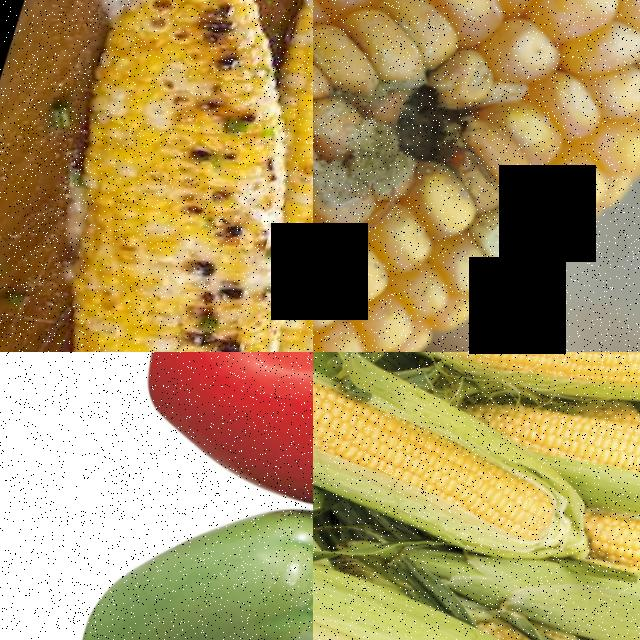chilli: (43, 464, 313, 640), (98, 352, 313, 559)
corn: (41, 0, 313, 324), (313, 0, 640, 205), (313, 352, 585, 583), (313, 115, 498, 352), (462, 379, 640, 547), (26, 257, 313, 352), (397, 352, 640, 436), (313, 592, 552, 640), (566, 504, 640, 623)
